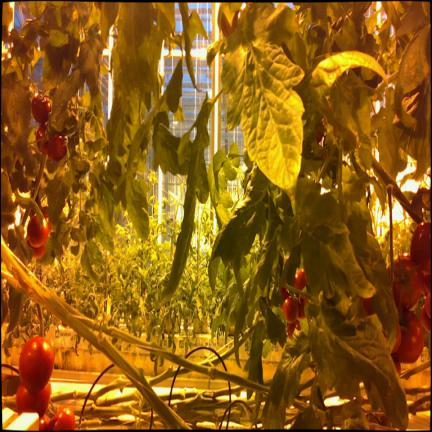MainStem: (0, 237, 192, 429), (58, 296, 270, 396), (372, 155, 425, 224), (30, 154, 47, 201)
tomato: (18, 336, 54, 391), (393, 254, 423, 309), (394, 310, 423, 362), (16, 382, 51, 418), (410, 222, 430, 273), (27, 214, 49, 247), (48, 405, 75, 430), (32, 94, 51, 124), (47, 135, 67, 162), (221, 10, 238, 37), (36, 122, 48, 154), (283, 297, 297, 322), (293, 268, 307, 290), (287, 320, 301, 338), (421, 306, 430, 332), (298, 297, 309, 318), (33, 244, 46, 258), (39, 414, 50, 430), (424, 293, 430, 317), (280, 286, 289, 300), (424, 274, 430, 293)
